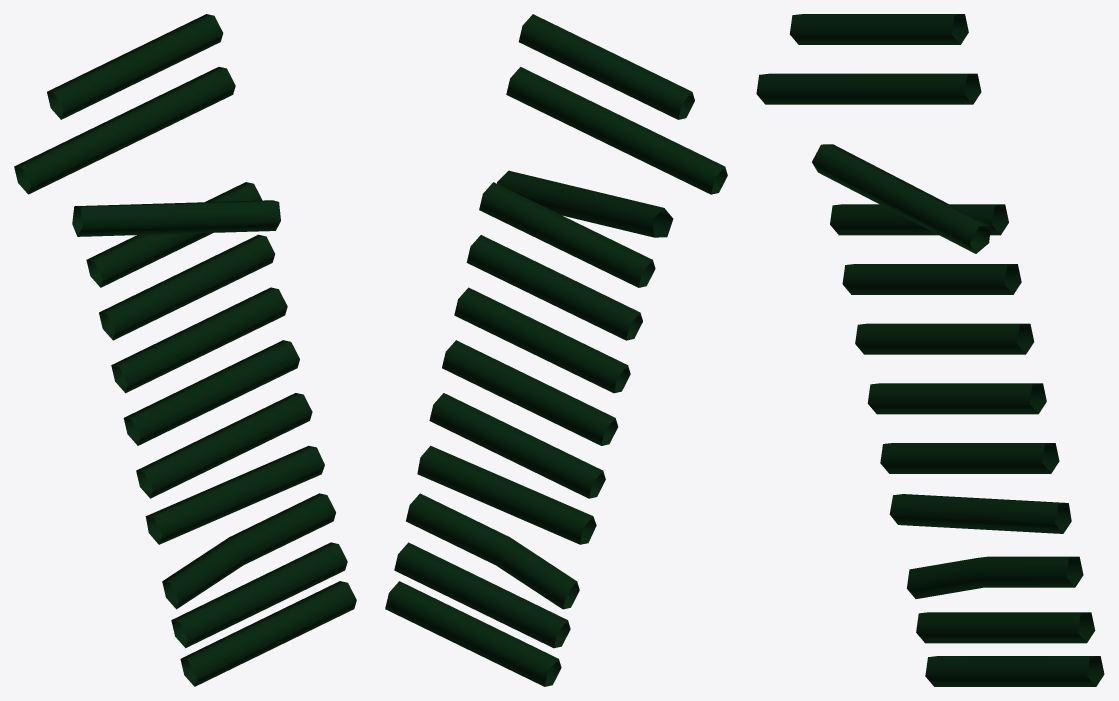
File: 1_Emi.fbx
3 renders of one model, left to right at view 1: azimuth 30°, elevation 25°; view 2: azimuth 150°, elevation 25°; view 3: azimuth 330°, elevation 25°, orthographic.
Parts seen in each view (by area): view 1: Object007; view 2: Object007; view 3: Object007.
Boxes of the visible parts, left/top/right/bottom form: Object007: left=14, top=14, right=356, bottom=686; Object007: left=385, top=14, right=727, bottom=686; Object007: left=756, top=14, right=1104, bottom=686.
Bounding box in the file's own units: 218 × 418 × 41.12.
